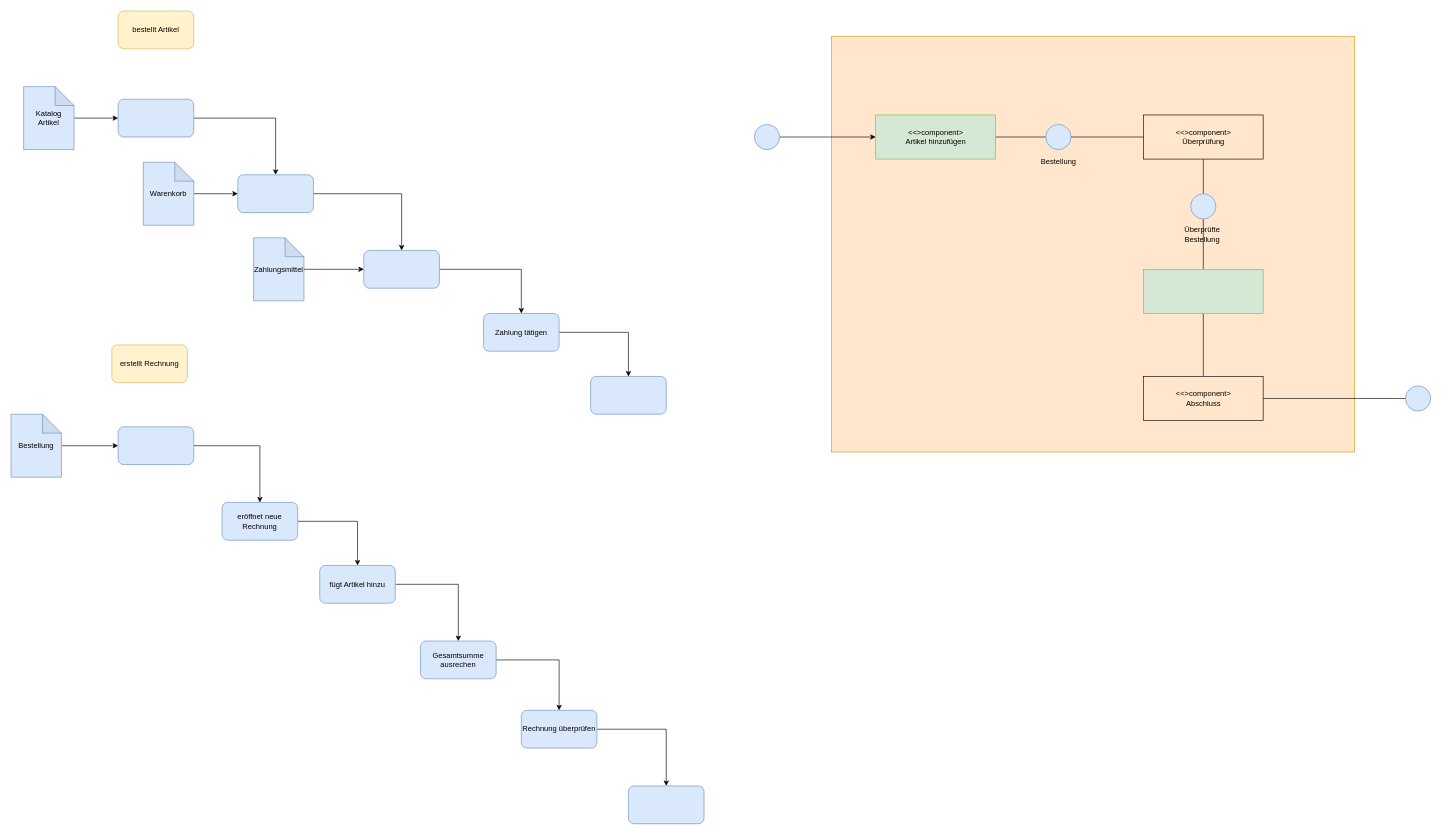
Some shapes in this 1442 by 835 pixel diagram are drawn without their labels. The shapes that lost their labels are listed below. From the top down, each one's centre as x and y in pixels, then its label:
At (x=155, y=118): "Artikel zum Warenkorb hinzufügen".
At (x=275, y=193): "Warenkorb überprüfen".
At (x=401, y=269): "Zahlungsmittel auswählen".
At (x=1203, y=291): "<<>component> Zahlung".
At (x=628, y=395): "Bestellung abschliessen".
At (x=155, y=445): "erhält Bestelldaten".
At (x=666, y=804): "stellt Rechnung".
